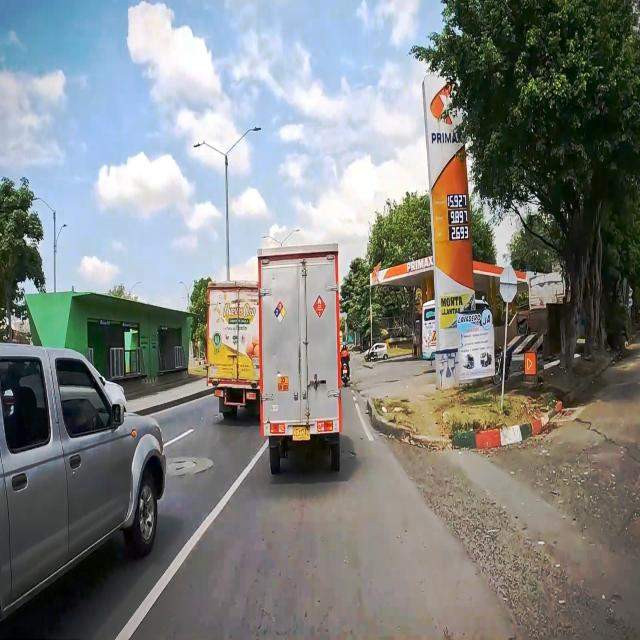license_plate: (292, 424, 310, 440)
